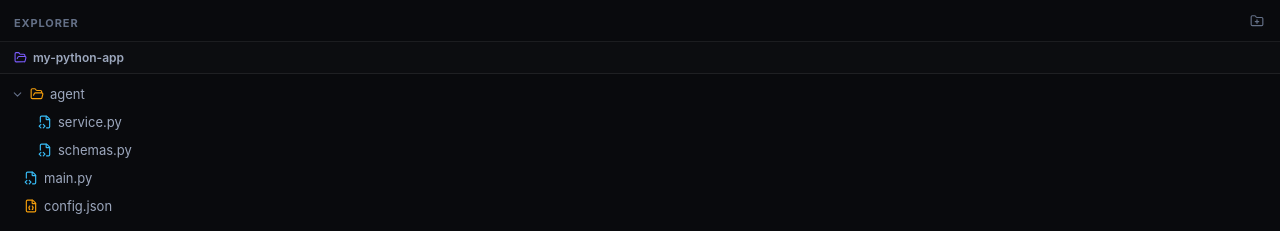
it: FileTree Component › collapses and expands directory when clicked
Expected: the text "service.py" is shown, [58,114,122,130]
Click folder to collapse
Click the text "agent": x=67, y=94 [50,86,85,102]
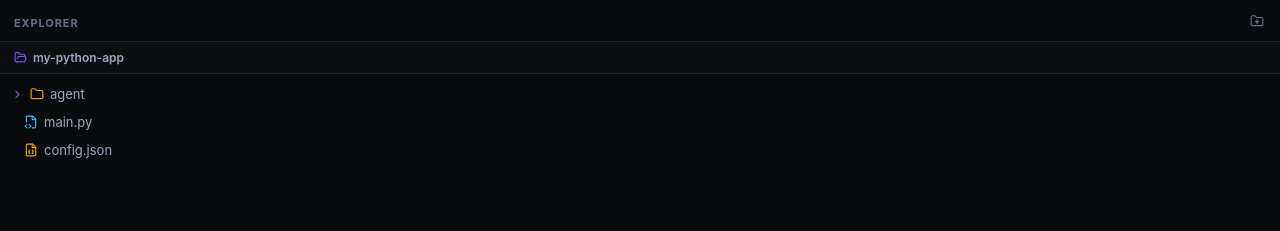
Now the text "service.py" is gone
Click folder again to expand
Click the text "agent": x=67, y=94 [50,86,85,102]
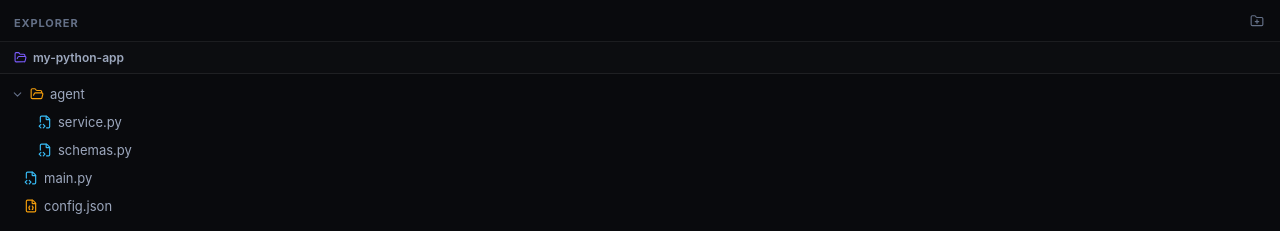
Now the text "service.py" is shown, box [58,114,122,130]
